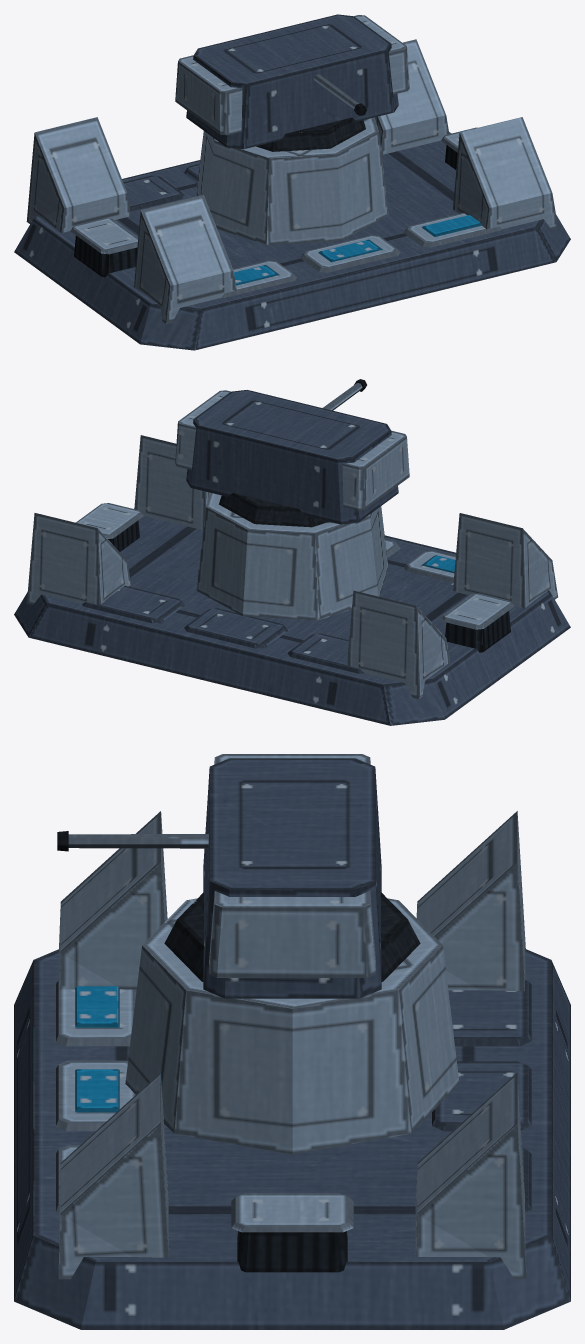
File: building-artillery_battery.fbx
3 views of the same model, one above another, from view 1: azimuth 30°, elevation 25°; view 2: azimuth 150°, elevation 25°; view 3: azimuth 270°, elevation 25° (orthographic). The views are drawn at different scales.
Visible parts, largest first — view 1: building-artillery_battery; view 2: building-artillery_battery; view 3: building-artillery_battery.
Part boxes in pixels (bbox=[...]): building-artillery_battery: bbox=[14, 14, 570, 350]; building-artillery_battery: bbox=[14, 379, 570, 725]; building-artillery_battery: bbox=[14, 754, 570, 1329].
Bounding box in the file's own units: 2184 × 950 × 1456.
1 material, 1 textured.
